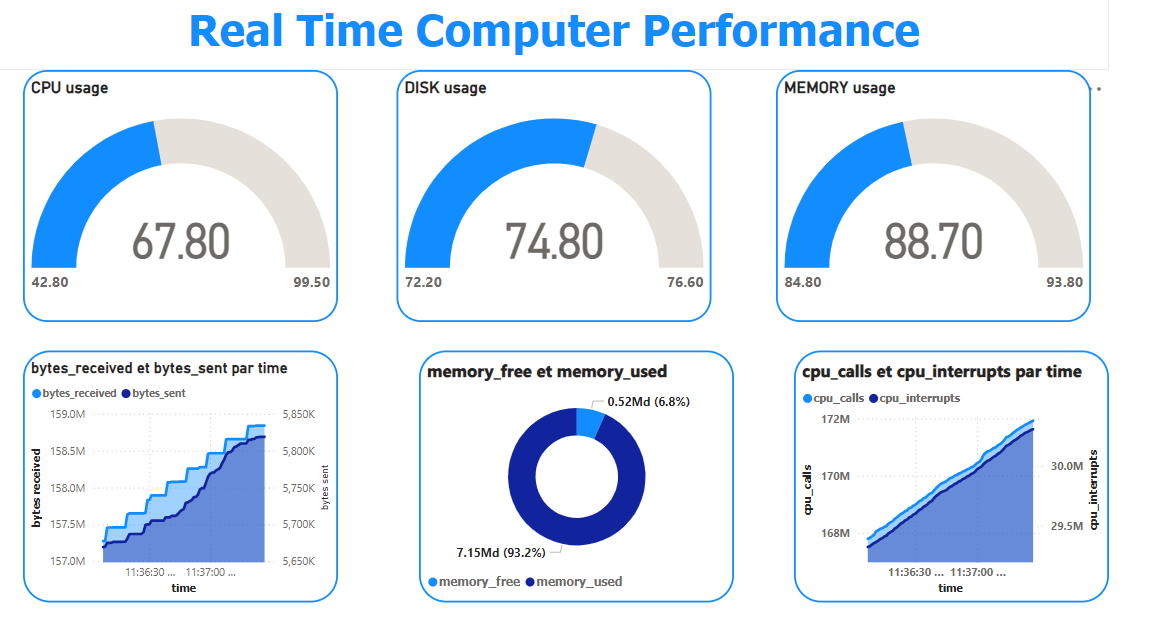

The page's visual inventory and layout, read from the dashboard file:
{"tool":"powerbi","page":{"name":"Page 1","canvas":[1280,720],"ordinal":0},"visuals":[{"type":"gauge","title":"CPU usage","fields":{"Y":["performance.cpu_usage_last_value"],"MinValue":["Min(performance.cpu_usage)"],"MaxValue":["Max(performance.cpu_usage)"]},"box":[11.5,80.6,406.1,313.9],"z":0},{"type":"gauge","title":"DISK usage","fields":{"Y":["performance.disk_usage_last_value"],"MinValue":["Min(performance.disk_usage)"],"MaxValue":["Max(performance.disk_usage)1"]},"box":[445,80.6,387.4,313.9],"z":1000},{"type":"gauge","title":"memory_usage","fields":{"MinValue":["Min(performance.memory_usage)"],"MaxValue":["Max(performance.memory_usage)1"],"Y":["performance.memory_usage_last_value"]},"box":[877,80.6,367.2,313.9],"z":2000},{"type":"donutChart","title":" memory_free  et memory_used","fields":{"Y":["Min(performance.memory_free)","Min(performance.memory_used)"]},"box":[436.3,406.1,406.1,313.9],"z":3000},{"type":"textbox","box":[11.5,0,1268.6,70.6],"z":3001},{"type":"lineChart","title":"bytes_received  et  bytes_sent par time","fields":{"Y":["Min(performance.bytes_received)"],"Y2":["Max(performance.bytes_sent)"],"Category":["performance.time"]},"box":[12,406,406,314],"z":3002},{"type":"lineChart","fields":{"Category":["performance.time"],"Y":["Min(performance.cpu_calls)"],"Y2":["Max(performance.cpu_interrupts)"]},"box":[877,406,367,314],"z":3003}]}

Visuals, with their boxes in screenshot pixels (x1, y1, x2, y2), scaled from the page's 1280x720 canvas onto the 1149x643 screenshot:
"CPU usage" gauge: (10, 72, 375, 352)
"DISK usage" gauge: (399, 72, 747, 352)
"memory_usage" gauge: (787, 72, 1117, 352)
" memory_free  et memory_used" donutChart: (392, 363, 756, 642)
textbox: (10, 0, 1148, 63)
"bytes_received  et  bytes_sent par time" lineChart: (11, 363, 375, 642)
lineChart - performance.time x Min(performance.cpu_calls): (787, 363, 1117, 642)
